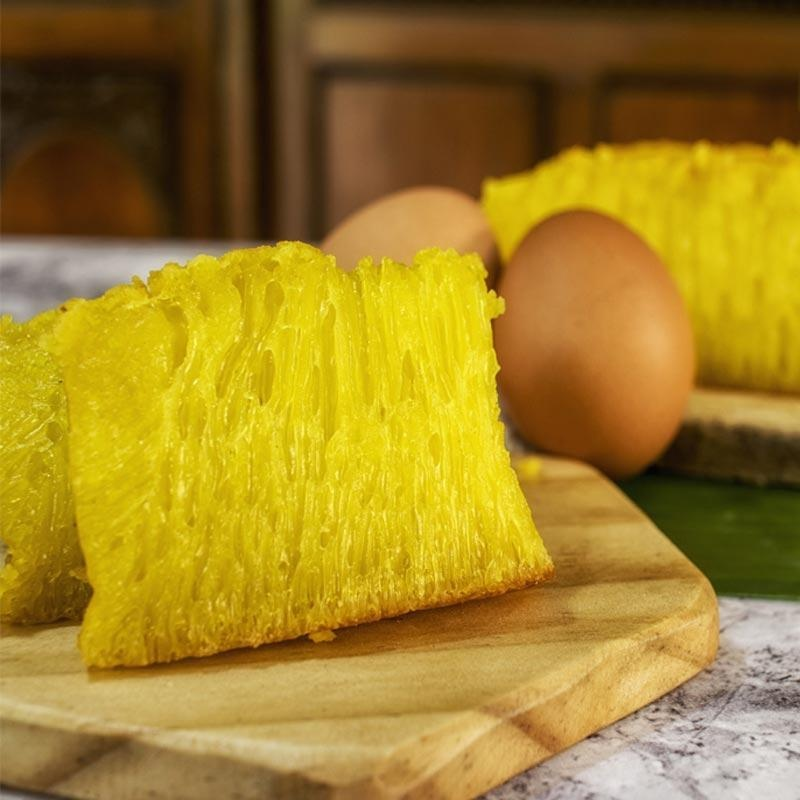bika_ambon: (30, 245, 563, 649)
